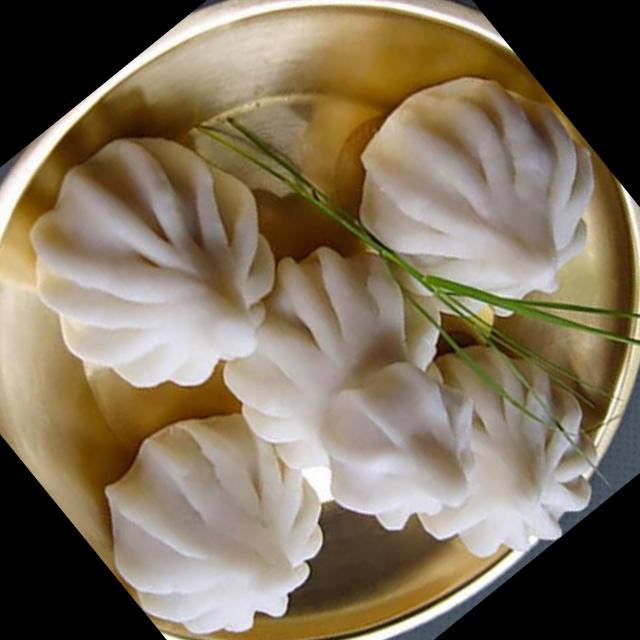modak: (213, 208, 615, 615), (298, 41, 612, 359), (0, 107, 314, 418), (63, 387, 340, 640)
